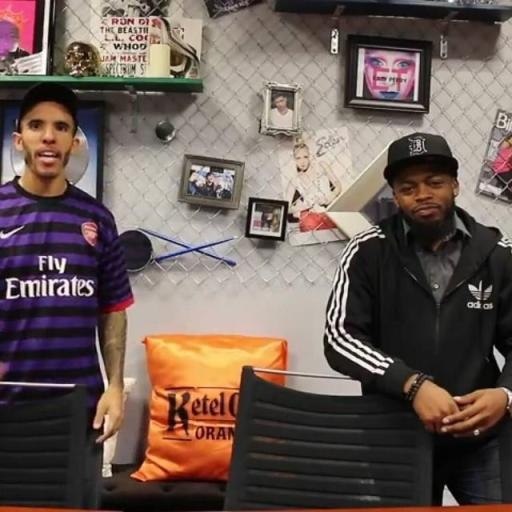Adidas: (463, 280, 496, 311)
Emirates: (3, 252, 98, 302)
